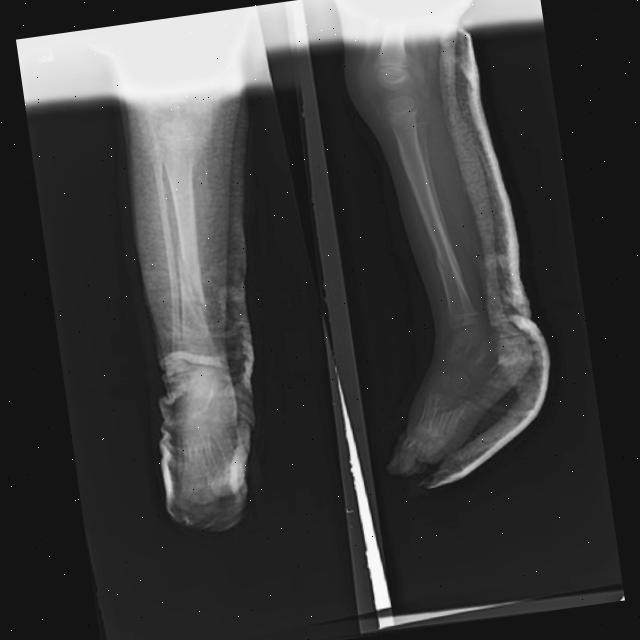Fracture: (175, 252, 208, 330), (434, 251, 463, 290)
